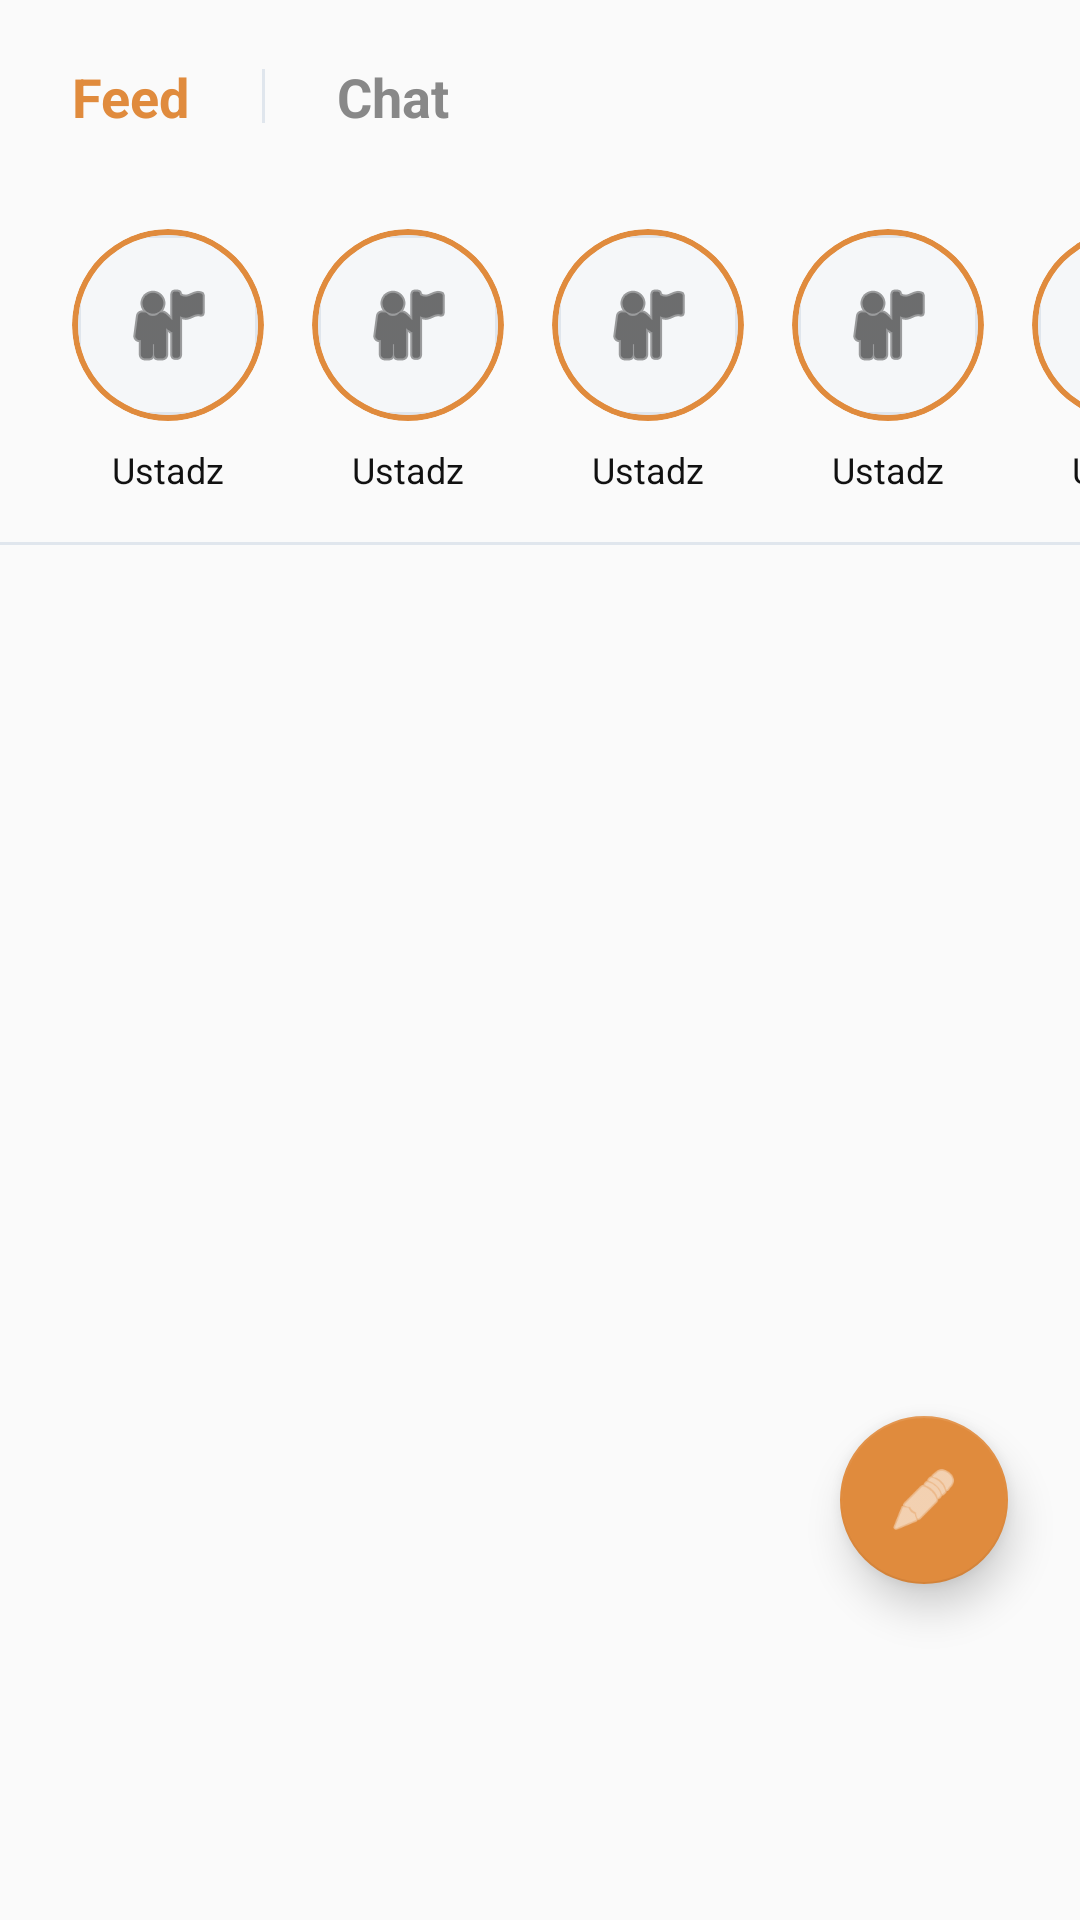

Named icons in this screenshot (1080px x 1920px) and their bounding boxes, (x1, y1, x2, y2):
edit: (840, 1416, 1008, 1584)
